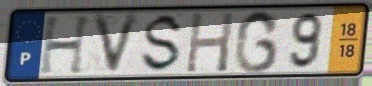9: (286, 10, 326, 71)
G: (232, 8, 282, 75)
H: (37, 13, 96, 77), (183, 10, 237, 74)
S: (137, 12, 187, 75)
V: (90, 10, 145, 78)
